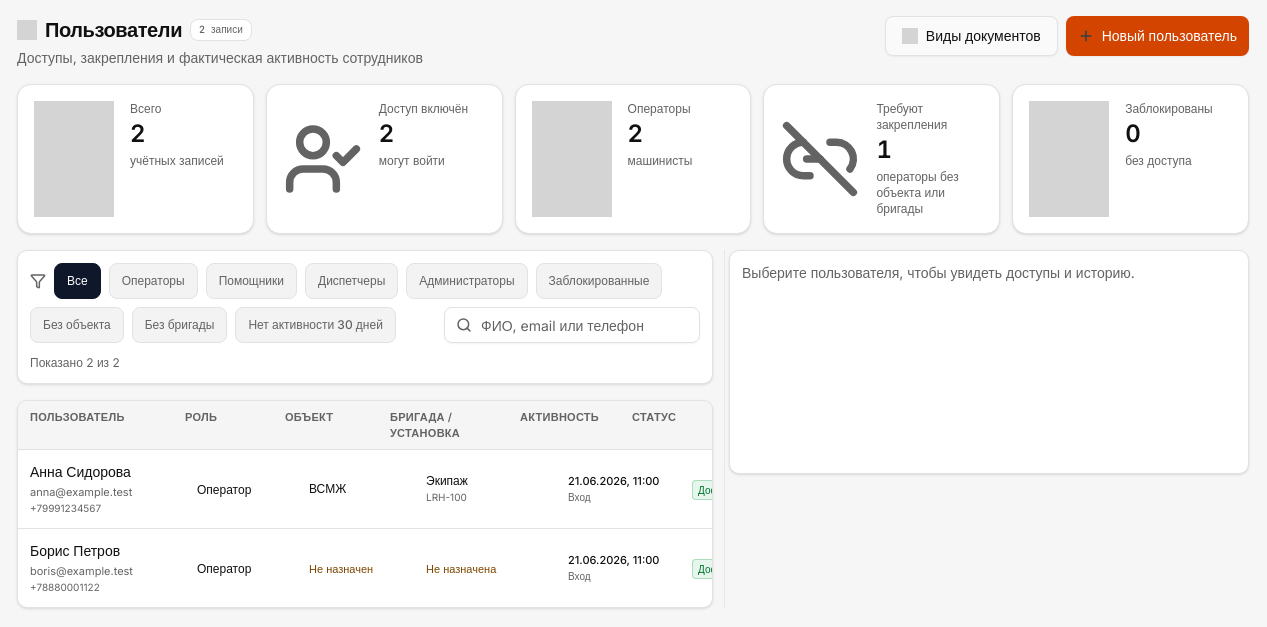
Scenario: AdminUsers › renders the operational columns and five detail tabs
Check: the text "Объект" is shown, box [285,410,333,424]
Check: the text "Бригада / установка" is shown, box [390,410,460,440]
Click the text "Анна Сидорова": (80, 472) [30,463,131,480]
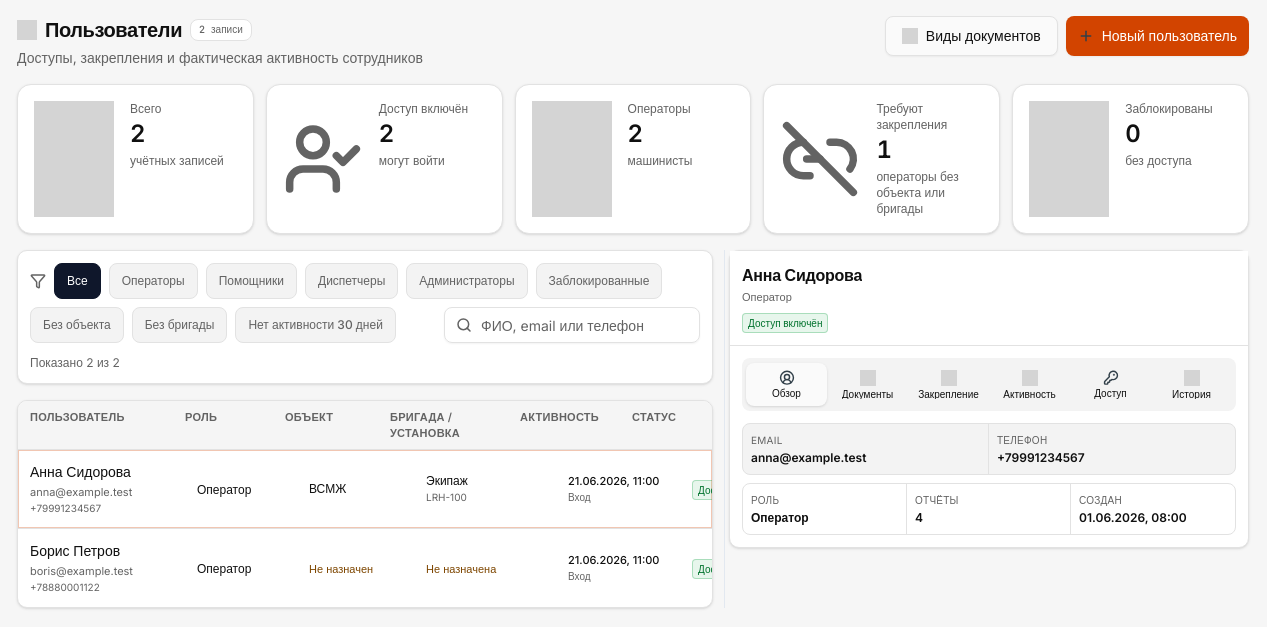
Check: the tab "Обзор" is shown, box [746,362,827,406]
Check: the tab "Закрепление" is shown, box [908,362,989,406]
Check: the tab "Активность" is shown, box [989,362,1070,406]
